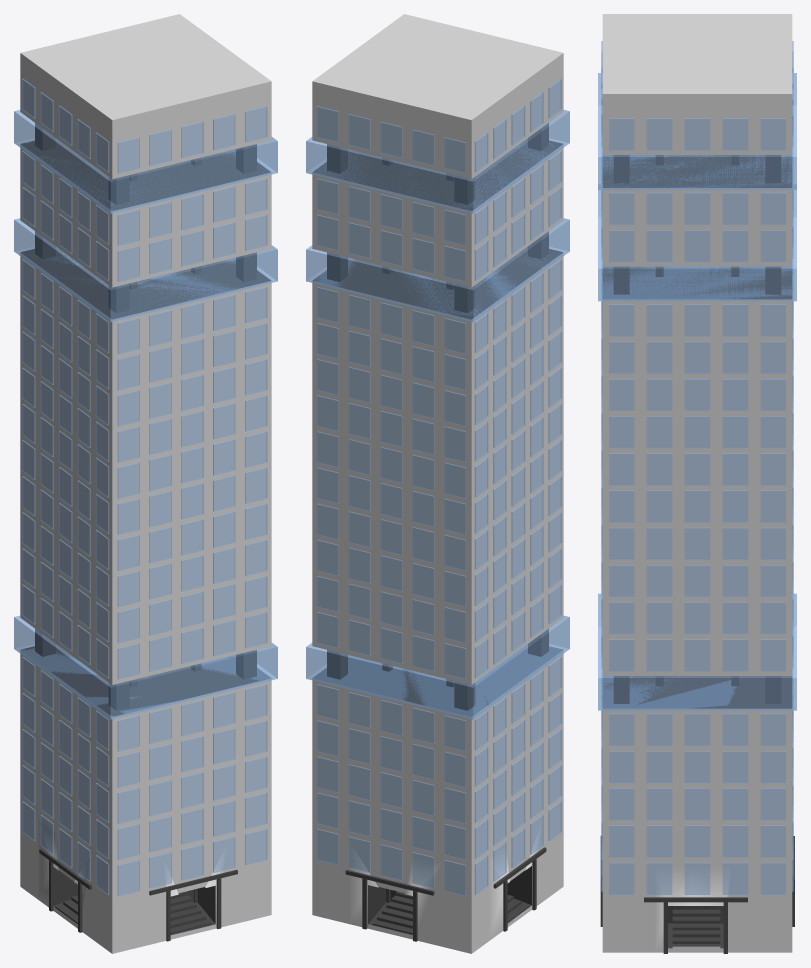
The model's file is jumpbuilding_v001_e.fbx.
3 renders of one model, left to right at view 1: azimuth 30°, elevation 25°; view 2: azimuth 150°, elevation 25°; view 3: azimuth 270°, elevation 25°, orthographic. The views are drawn at different scales.
Visible parts, largest first — view 1: building; view 2: building; view 3: building.
Part boxes in pixels (x1,y1,x2,y2): building: [14, 14, 277, 953]; building: [306, 14, 569, 953]; building: [598, 14, 796, 953].
Bounding box in the file's own units: 630 × 3000 × 630.
